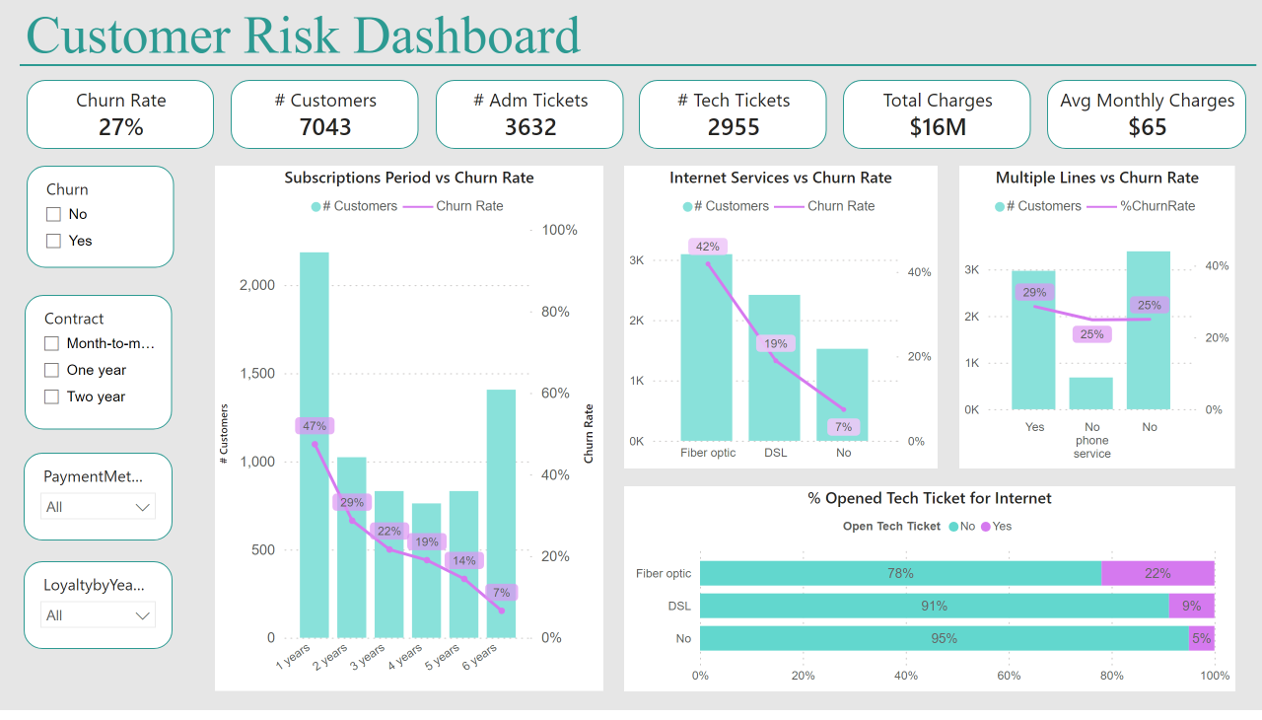

What the dashboard file says about the page in this screenshot:
{"tool":"powerbi","page":{"name":"Page 1","canvas":[1280,720],"ordinal":1},"visuals":[{"type":"card","title":"Churn Rate","fields":{"Values":["01 Churn-Dataset.%ChurnRate"]},"box":[27,80.6,190,69.9],"z":0},{"type":"lineClusteredColumnComboChart","title":"Subscriptions Period vs Churn Rate","fields":{"Y2":["01 Churn-Dataset.%ChurnRate"],"Y":["CountNonNull(01 Churn-Dataset.customerID)"],"Category":["01 Churn-Dataset.LoyaltybyYears"]},"box":[217.7,168.3,394.2,532.5],"z":1000},{"type":"lineStackedColumnComboChart","title":"Internet Services vs Churn Rate","fields":{"Category":["01 Churn-Dataset.InternetService"],"Y":["CountNonNull(01 Churn-Dataset.customerID)"],"Y2":["01 Churn-Dataset.%ChurnRate"]},"box":[632.6,168.3,317.9,306.8],"z":2000},{"type":"hundredPercentStackedBarChart","title":"% Opened Tech Ticket for Internet","fields":{"Category":["01 Churn-Dataset.InternetService"],"Y":["CountNonNull(01 Churn-Dataset.customerID)"],"Series":["01 Churn-Dataset.OpenTechTicket"]},"box":[632.6,492.6,619.9,208.2],"z":3000},{"type":"slicer","fields":{"Values":["01 Churn-Dataset.Churn"]},"box":[27,168.3,149.4,103.3],"z":4000},{"type":"slicer","fields":{"Values":["01 Churn-Dataset.Contract"]},"box":[25.4,298.7,149.4,136.7],"z":5000},{"type":"slicer","fields":{"Values":["01 Churn-Dataset.PaymentMethod"]},"box":[23.8,459.2,151,89],"z":6000},{"type":"lineClusteredColumnComboChart","title":"Multiple Lines vs Churn Rate","fields":{"Category":["01 Churn-Dataset.MultipleLines"],"Y":["CountNonNull(01 Churn-Dataset.customerID)"],"Y2":["01 Churn-Dataset.%ChurnRate"]},"box":[972.7,168.3,279.7,306.8],"z":7000},{"type":"card","title":"# Customers","fields":{"Values":["CountNonNull(01 Churn-Dataset.customerID)"]},"box":[233.6,80.6,190.7,69.9],"z":8000},{"type":"card","title":"# Adm Tickets","fields":{"Values":["Sum(01 Churn-Dataset.numAdminTickets)"]},"box":[441.9,80.6,190.7,69.9],"z":9000},{"type":"card","title":"# Tech Tickets","fields":{"Values":["01 Churn-Dataset.numTech"]},"box":[648.5,80.6,190.7,69.9],"z":10000},{"type":"card","title":"Total Charges","fields":{"Values":["Sum(01 Churn-Dataset.TotalCharges)"]},"box":[855.1,80.6,190.7,69.9],"z":11000},{"type":"card","title":"Avg Monthly Charges","fields":{"Values":["Avg(01 Churn-Dataset.MonthlyCharges)"]},"box":[1061.7,80.6,201.9,69.9],"z":12000},{"type":"slicer","fields":{"Values":["01 Churn-Dataset.LoyaltybyYears"]},"box":[23.8,568.9,151,89],"z":13000},{"type":"textbox","box":[20.7,0,658,71.5],"z":14000},{"type":"shape","box":[20,61.4,1254.3,10],"z":15000}]}

Visuals, with their boxes in screenshot pixels (x1, y1, x2, y2), scaled from the page's 1280x720 canvas onto the 1262x720 screenshot:
"Churn Rate" card: Rect(27, 81, 214, 150)
"Subscriptions Period vs Churn Rate" lineClusteredColumnComboChart: Rect(215, 168, 603, 701)
"Internet Services vs Churn Rate" lineStackedColumnComboChart: Rect(624, 168, 937, 475)
"% Opened Tech Ticket for Internet" hundredPercentStackedBarChart: Rect(624, 493, 1235, 701)
slicer - 01 Churn-Dataset.Churn: Rect(27, 168, 174, 272)
slicer - 01 Churn-Dataset.Contract: Rect(25, 299, 172, 435)
slicer - 01 Churn-Dataset.PaymentMethod: Rect(23, 459, 172, 548)
"Multiple Lines vs Churn Rate" lineClusteredColumnComboChart: Rect(959, 168, 1235, 475)
"# Customers" card: Rect(230, 81, 418, 150)
"# Adm Tickets" card: Rect(436, 81, 624, 150)
"# Tech Tickets" card: Rect(639, 81, 827, 150)
"Total Charges" card: Rect(843, 81, 1031, 150)
"Avg Monthly Charges" card: Rect(1047, 81, 1246, 150)
slicer - 01 Churn-Dataset.LoyaltybyYears: Rect(23, 569, 172, 658)
textbox: Rect(20, 0, 669, 72)
shape: Rect(20, 61, 1256, 71)
